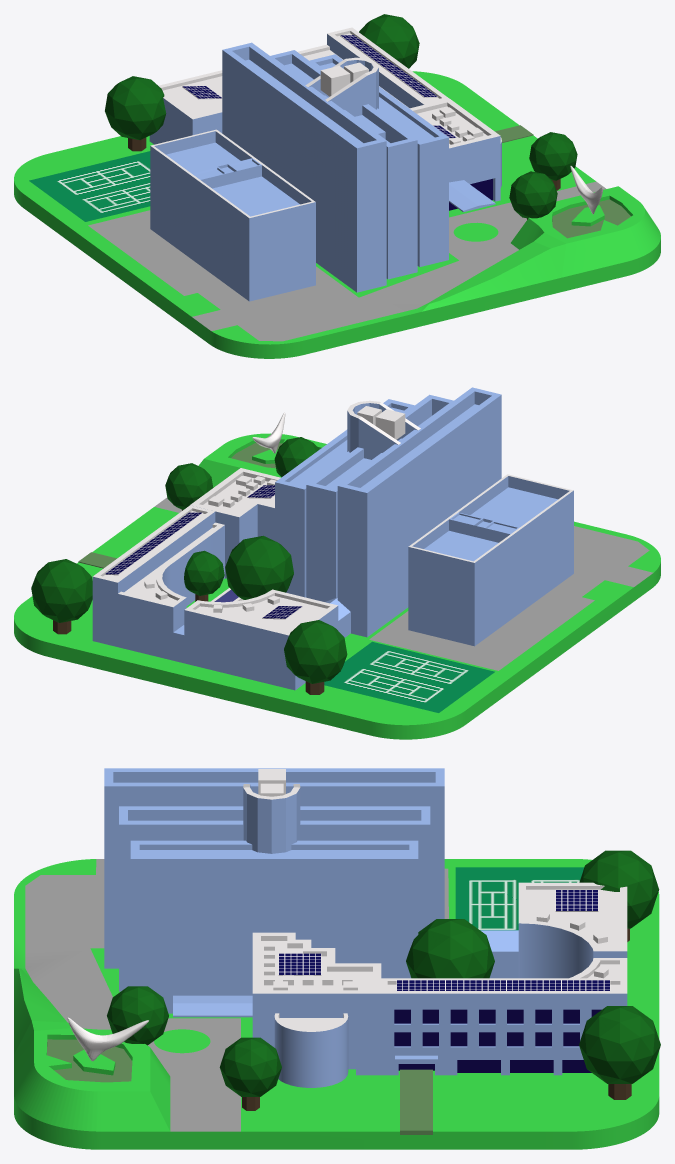
The picture shows the model from 3 angles, top to bottom: view 1: azimuth 30°, elevation 25°; view 2: azimuth 150°, elevation 25°; view 3: azimuth 270°, elevation 25°; orthographic projection. The views are drawn at different scales.
Visible parts, largest first — view 1: Plane.001, Cube.001, Cube.004, Cube.005, Tennis, Cube.003, Cylinder.006, Cube.017, Cylinder.005, Cylinder.003, Cylinder.004, Cube.010 (+2 smaller); view 2: Plane.001, Cube.001, Cube.004, Cube.005, Tennis, Cube.003, Cylinder, Cylinder.006, Cylinder.005, Cube.017, Cylinder.003, Cylinder.002 (+2 smaller); view 3: Plane.001, Cube.001, Cube.005, Cube.003, Cylinder.005, Cylinder.001, Tennis, Cylinder, Cube.017, Cylinder.006, Cylinder.003, Cylinder.004 (+7 smaller).
Part boxes in pixels (x1=…): Plane.001: x1=14, y1=71, x2=660, y2=358; Cube.001: x1=222, y1=42, x2=448, y2=292; Cube.004: x1=150, y1=129, x2=315, y2=301; Cube.005: x1=149, y1=27, x2=448, y2=144; Tennis: x1=29, y1=151, x2=150, y2=221; Cube.003: x1=409, y1=98, x2=500, y2=212; Cylinder.006: x1=105, y1=76, x2=166, y2=151; Cube.017: x1=305, y1=57, x2=378, y2=116; Cylinder.005: x1=359, y1=14, x2=419, y2=68; Cylinder.003: x1=529, y1=132, x2=577, y2=190; Cylinder.004: x1=509, y1=171, x2=557, y2=219; Cube.010: x1=340, y1=35, x2=438, y2=97; Plane.001: x1=14, y1=433, x2=660, y2=739; Cube.001: x1=275, y1=387, x2=501, y2=637; Cube.004: x1=408, y1=474, x2=573, y2=646; Cube.005: x1=92, y1=505, x2=338, y2=690; Tennis: x1=324, y1=641, x2=494, y2=712; Cube.003: x1=190, y1=468, x2=280, y2=578; Cylinder: x1=225, y1=535, x2=293, y2=599; Cylinder.006: x1=284, y1=620, x2=347, y2=694; Cylinder.005: x1=31, y1=559, x2=92, y2=634; Cube.017: x1=347, y1=400, x2=420, y2=459; Cylinder.003: x1=165, y1=463, x2=213, y2=510; Cylinder.002: x1=184, y1=550, x2=224, y2=601; Plane.001: x1=14, y1=859, x2=659, y2=1149; Cube.001: x1=104, y1=768, x2=444, y2=1013; Cube.005: x1=381, y1=882, x2=627, y2=1075; Cube.003: x1=173, y1=932, x2=381, y2=1075; Cylinder.005: x1=579, y1=1006, x2=660, y2=1099; Cylinder.001: x1=274, y1=1013, x2=348, y2=1087; Tennis: x1=455, y1=867, x2=584, y2=930; Cylinder: x1=406, y1=919, x2=494, y2=978; Cube.017: x1=243, y1=769, x2=300, y2=853; Cylinder.006: x1=579, y1=850, x2=659, y2=941; Cylinder.003: x1=219, y1=1037, x2=281, y2=1110; Cylinder.004: x1=107, y1=986, x2=168, y2=1045.
Size of the model in its own units: 0.2261 by 0.0857 by 0.2266.
11 materials, 1 textured.
